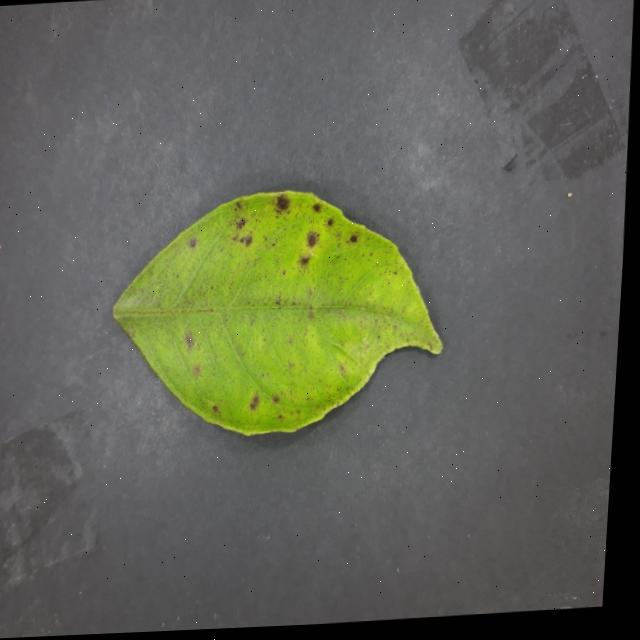greasy_spot: (113, 190, 442, 434)
